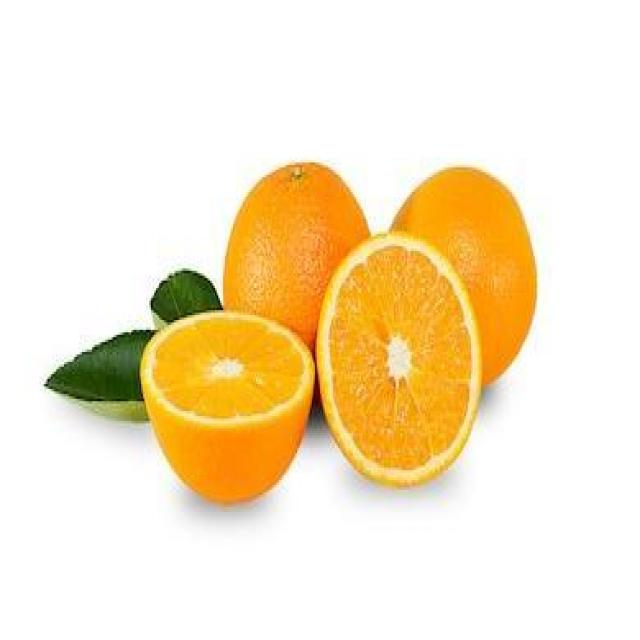Orange: (324, 241, 472, 483), (142, 308, 307, 504), (216, 157, 332, 315), (469, 161, 547, 383)
